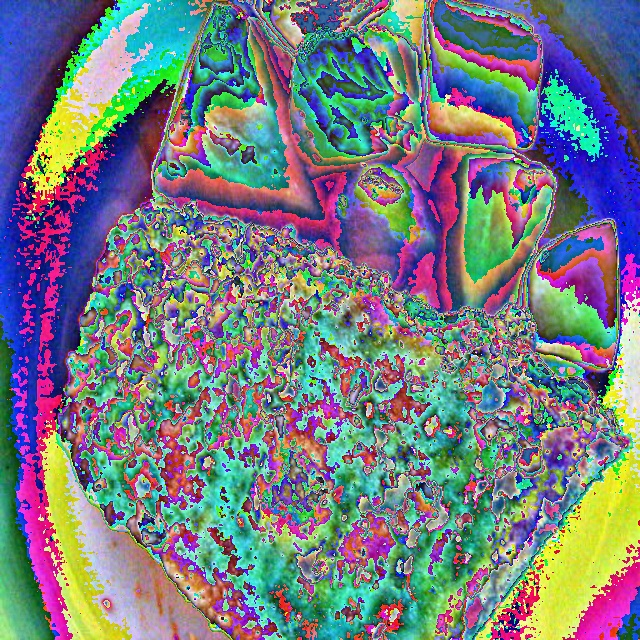background: (58, 0, 628, 640)
